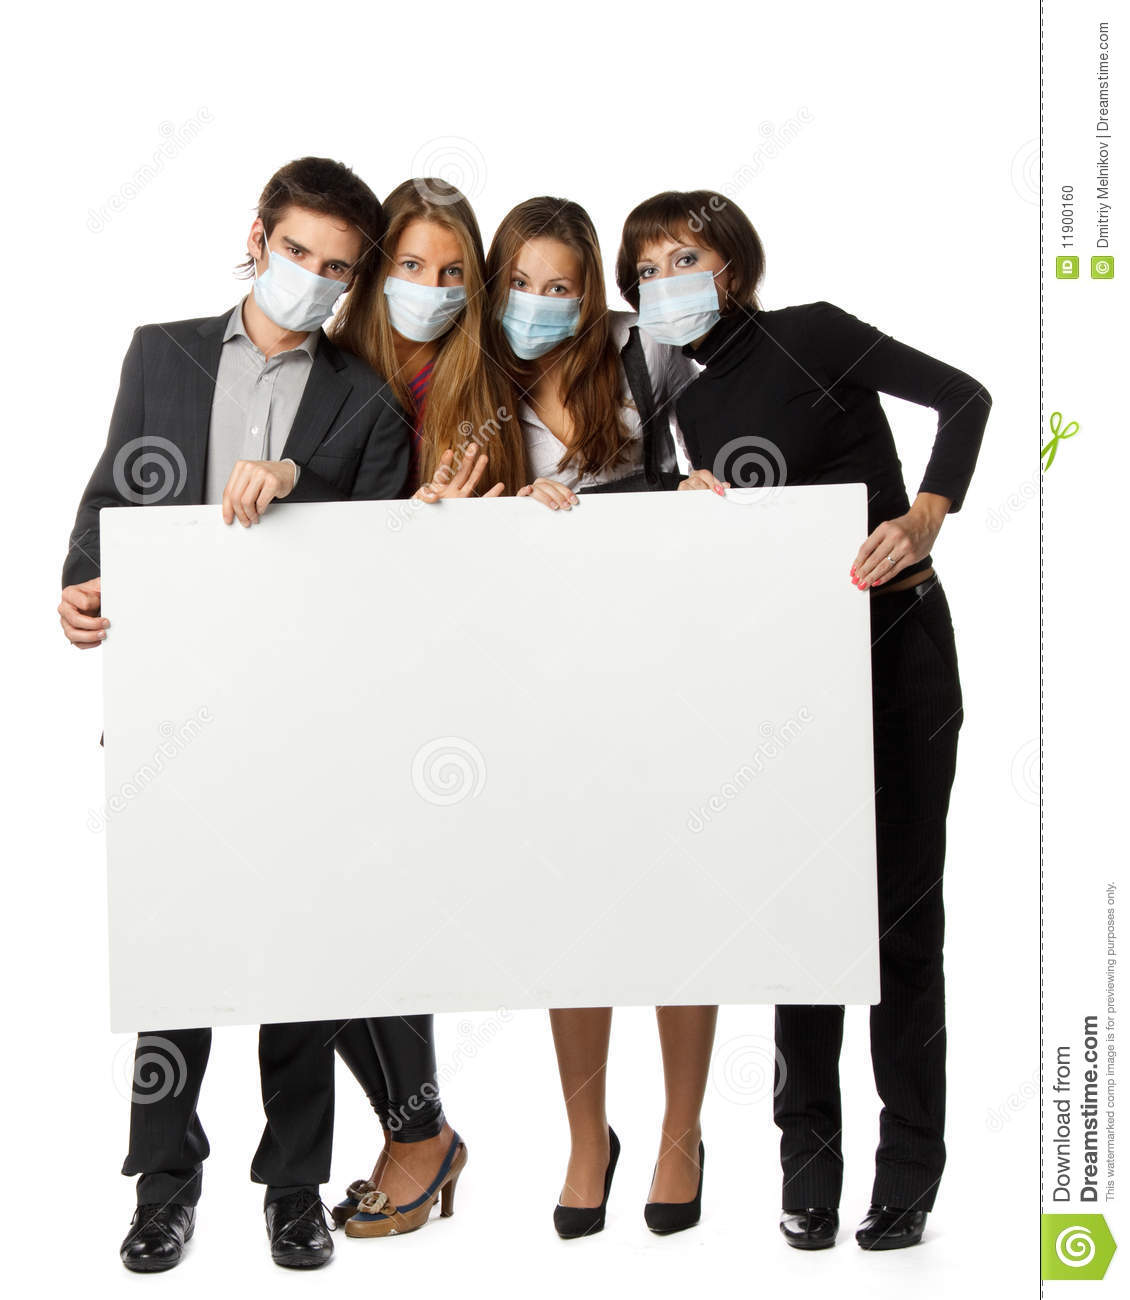mask: (252, 252, 346, 331), (495, 289, 584, 364), (638, 276, 724, 350), (381, 275, 468, 343)
